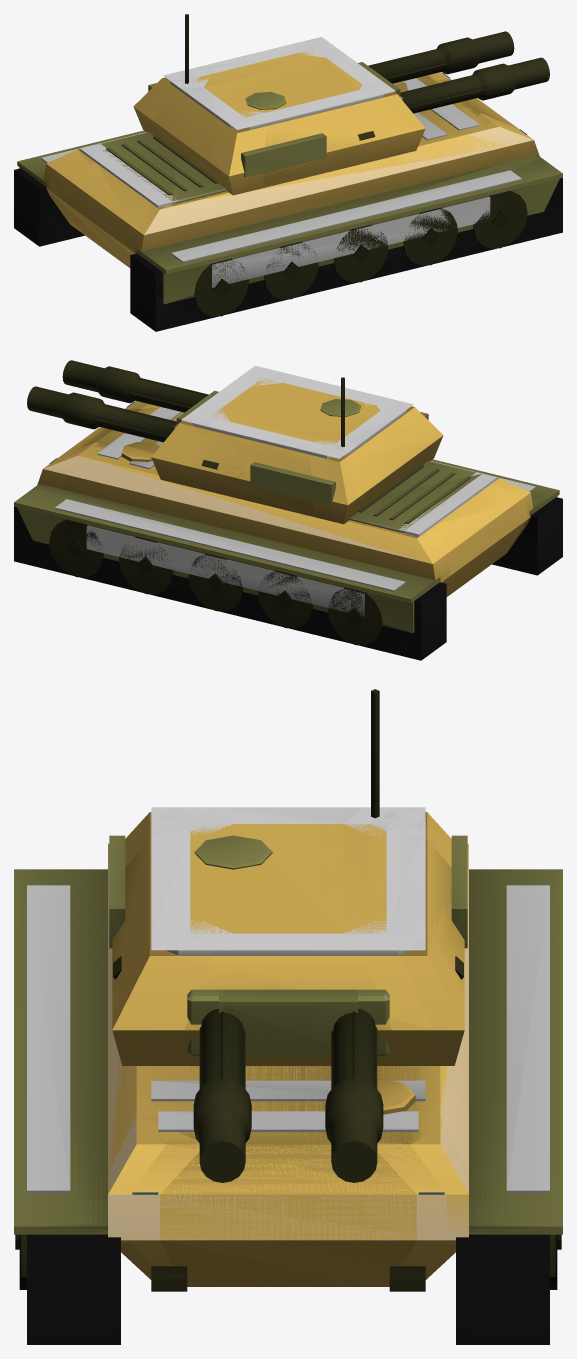
Rendered from meridian_heavy_tank.glb.
3 renders of one model, top to bottom at view 1: azimuth 30°, elevation 25°; view 2: azimuth 150°, elevation 25°; view 3: azimuth 270°, elevation 25°, orthographic. The views are drawn at different scales.
Parts seen in each view (by area): view 1: hull (×3), turret (×3), barrel (×2); view 2: hull (×3), turret (×3), barrel (×2); view 3: hull (×3), turret (×3), barrel (×2).
Boxes of the visible parts, x1=… form: hull (×3): x1=14, y1=72, x2=562, y2=331; turret (×3): x1=133, y1=14, x2=425, y2=195; barrel (×2): x1=368, y1=31, x2=549, y2=113; hull (×3): x1=14, y1=401, x2=562, y2=660; turret (×3): x1=151, y1=365, x2=443, y2=524; barrel (×2): x1=27, y1=360, x2=208, y2=442; hull (×3): x1=14, y1=843, x2=562, y2=1344; turret (×3): x1=109, y1=689, x2=467, y2=1065; barrel (×2): x1=187, y1=989, x2=389, y2=1182.
Size of the model in its own units: 6.5 by 3.06 by 3.8.
